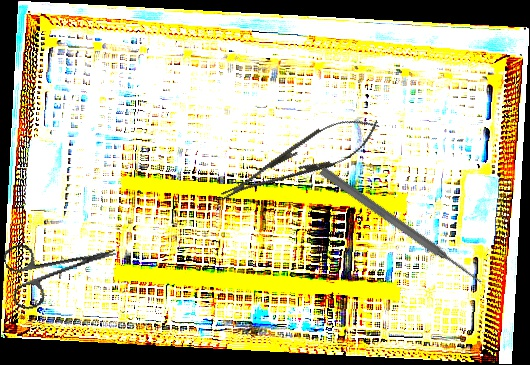Iris Scissors: (1, 222, 125, 313)
Needle Holder: (213, 104, 387, 215)
Pusher: (317, 165, 486, 288)
